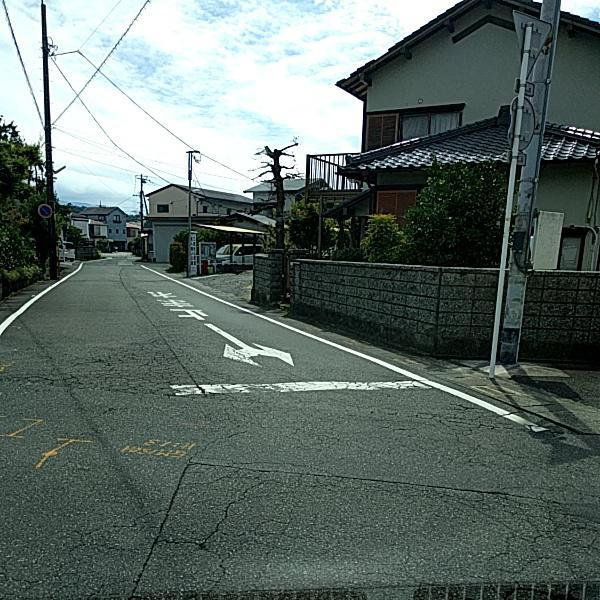D20: (93, 459, 599, 595), (30, 331, 216, 401), (359, 399, 557, 456)
D44: (168, 372, 428, 396)
